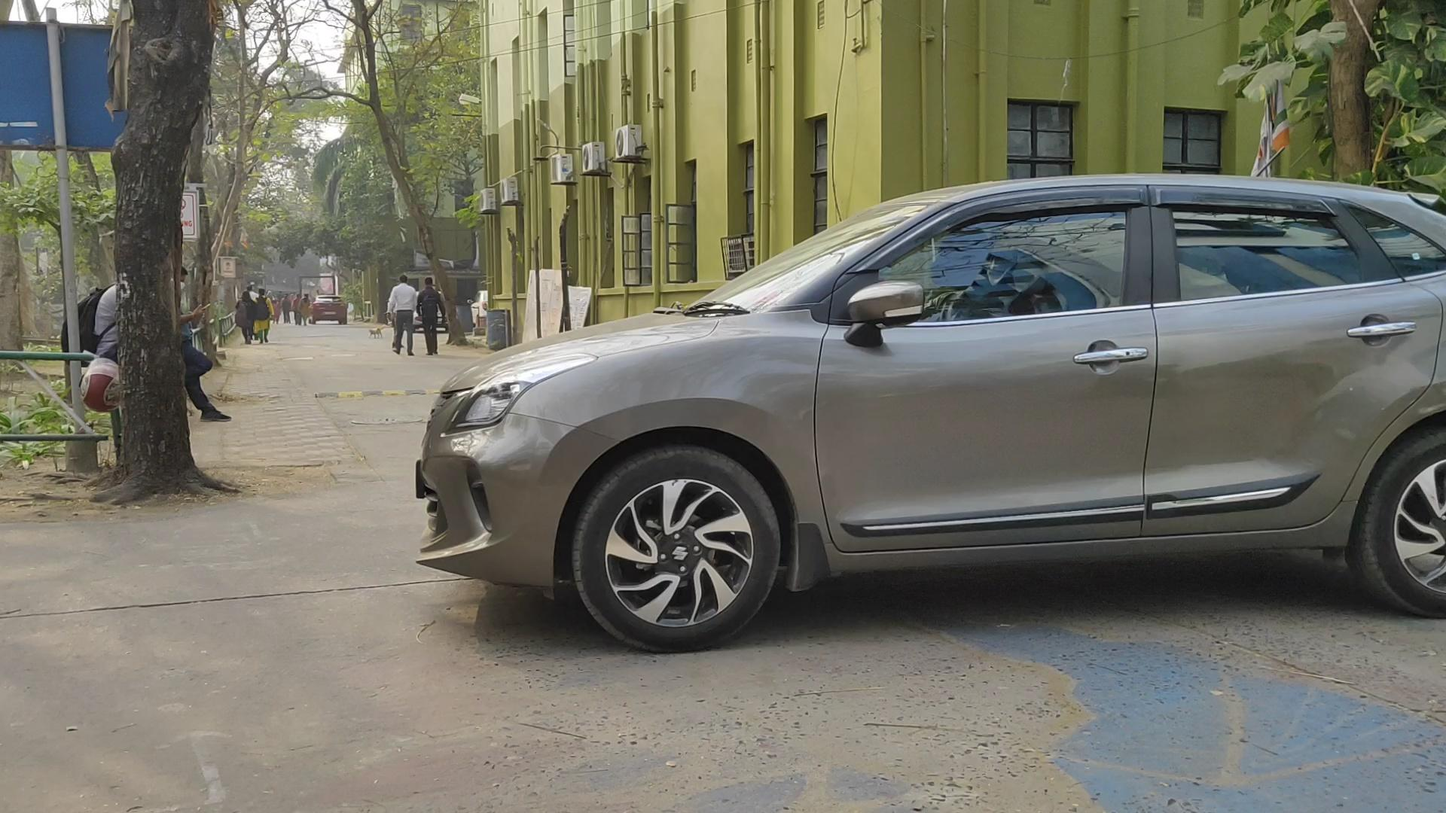car: (414, 174, 1446, 654), (309, 295, 348, 326)
